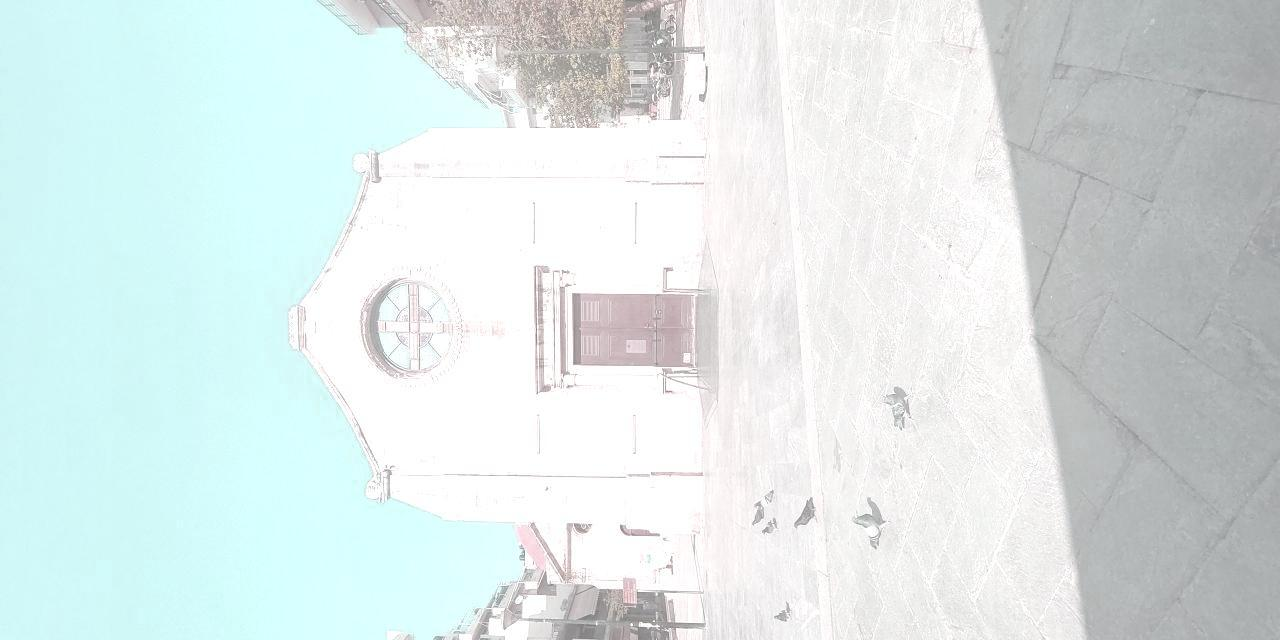Agia Aikaterini: (279, 122, 704, 532)
